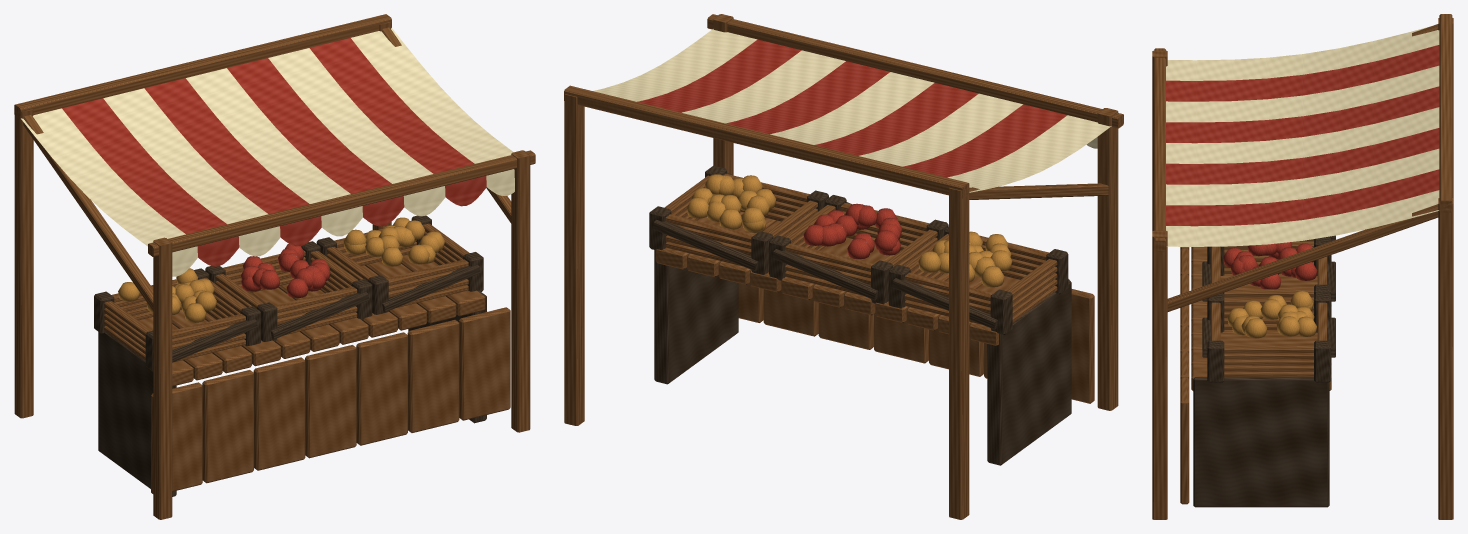
The model's file is market_fruit.glb.
3 renders of one model, left to right at view 1: azimuth 30°, elevation 25°; view 2: azimuth 150°, elevation 25°; view 3: azimuth 270°, elevation 25°, orthographic. The views are drawn at different scales.
Parts seen in each view (by area): view 1: market_fruit_Joinery.001, market_fruit_Cloth.001, market_fruit_Goods.001; view 2: market_fruit_Joinery.001, market_fruit_Cloth.001, market_fruit_Goods.001; view 3: market_fruit_Joinery.001, market_fruit_Cloth.001, market_fruit_Goods.001.
Part boxes in pixels (bbox=[...]): market_fruit_Joinery.001: bbox=[14, 14, 535, 519]; market_fruit_Cloth.001: bbox=[21, 28, 514, 276]; market_fruit_Goods.001: bbox=[118, 217, 444, 322]; market_fruit_Joinery.001: bbox=[564, 14, 1123, 519]; market_fruit_Cloth.001: bbox=[593, 29, 1111, 192]; market_fruit_Goods.001: bbox=[686, 174, 1012, 287]; market_fruit_Joinery.001: bbox=[1152, 14, 1453, 519]; market_fruit_Cloth.001: bbox=[1166, 26, 1439, 246]; market_fruit_Goods.001: bbox=[1223, 242, 1317, 338].
Bounding box in the file's own units: 3.5 × 2.71 × 2.32.
1 material, 1 textured.
